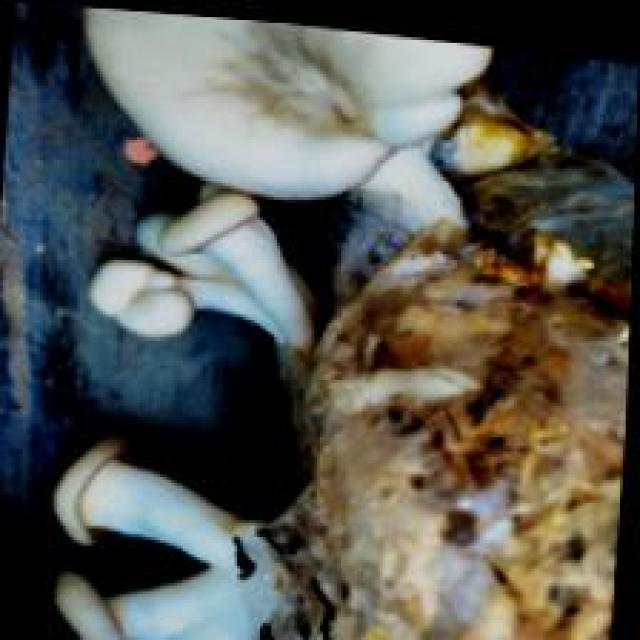death-cap: (77, 3, 494, 200)
